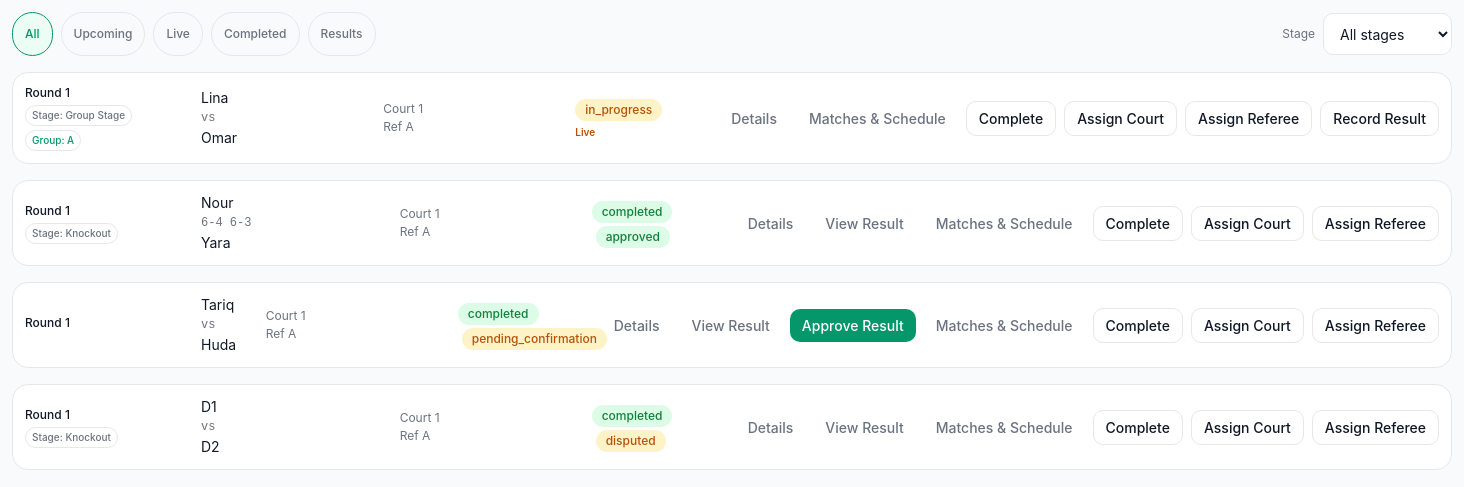
it: Tournament Hub Results management (Step 3F) › 3. All Results shows approved too
The width and height of the screenshot is (1464, 487).
Click the button "Results".
click(342, 34)  # box [308,12,376,56]
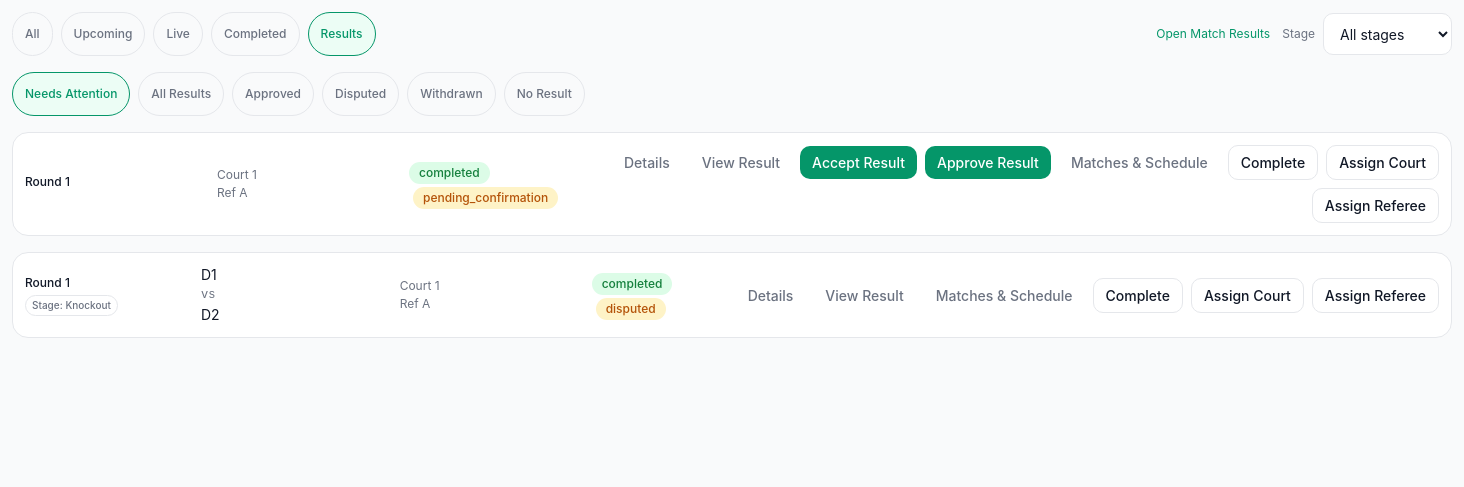
Click the button "All Results".
click(181, 94)  # box [138,72,224,116]
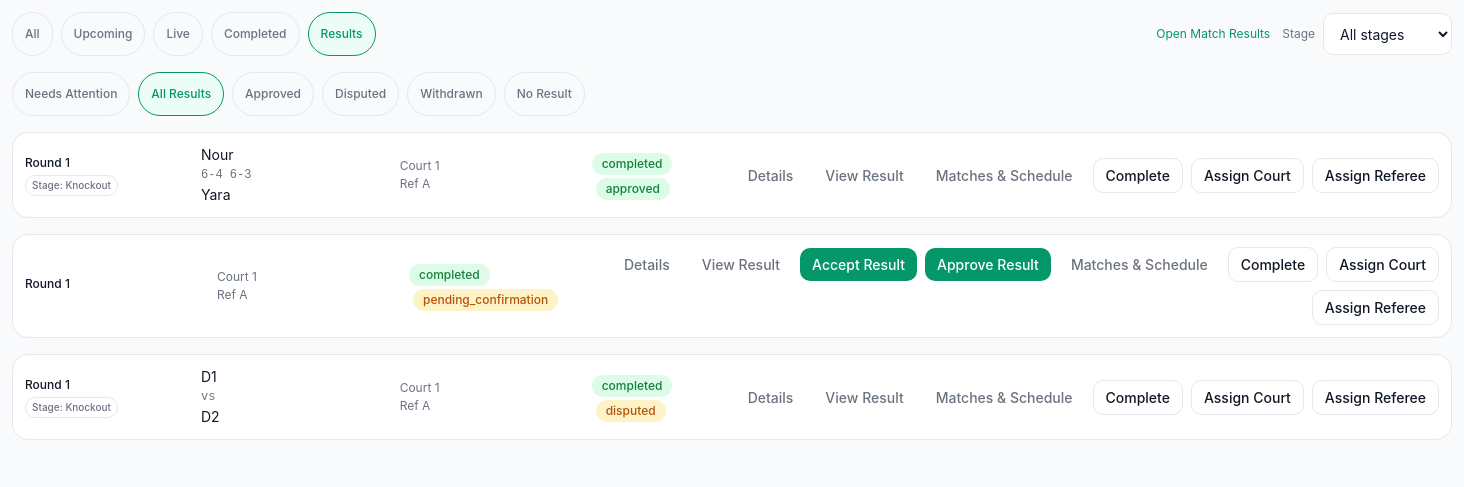
Expected: the text "Nour" is shown, [201,146,234,163]
